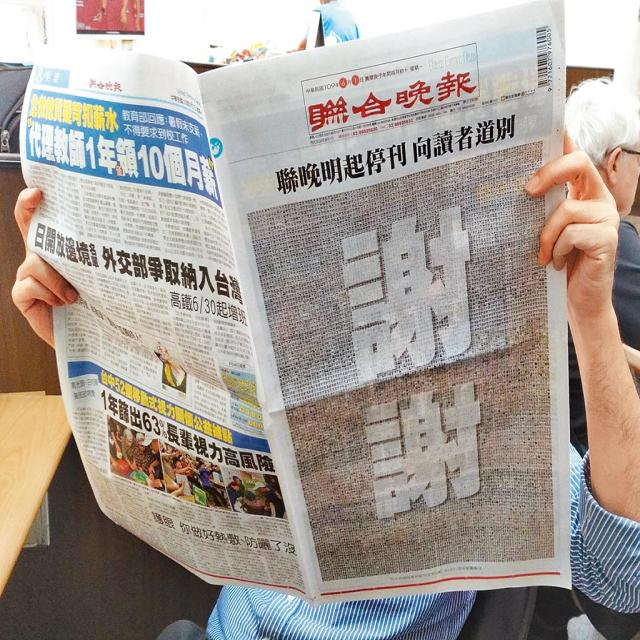newspaper: (25, 0, 567, 590)
